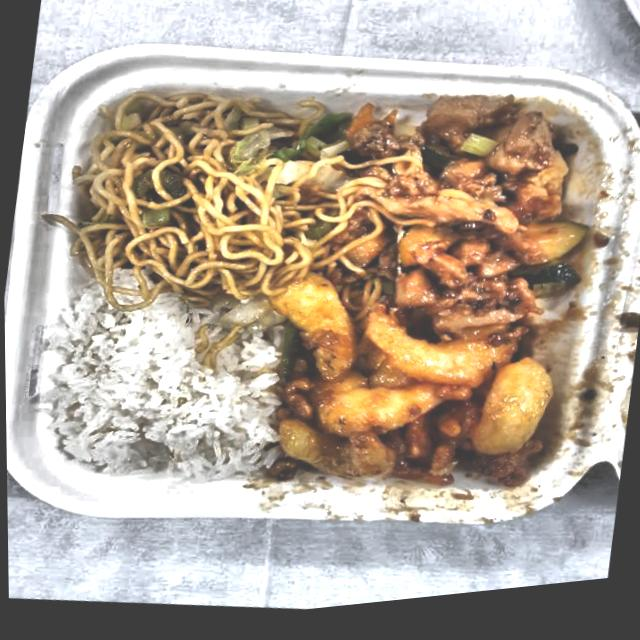Food: (255, 242, 577, 533), (52, 62, 367, 333), (339, 79, 610, 359), (34, 281, 286, 504)
